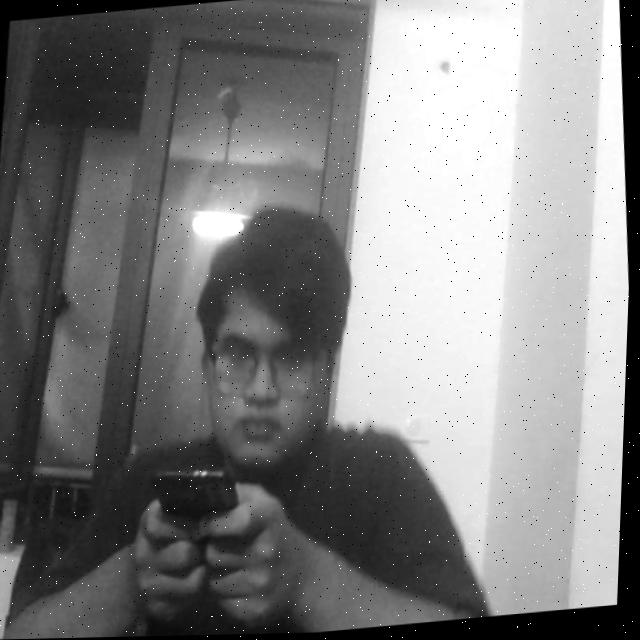phone: (126, 438, 278, 588)
